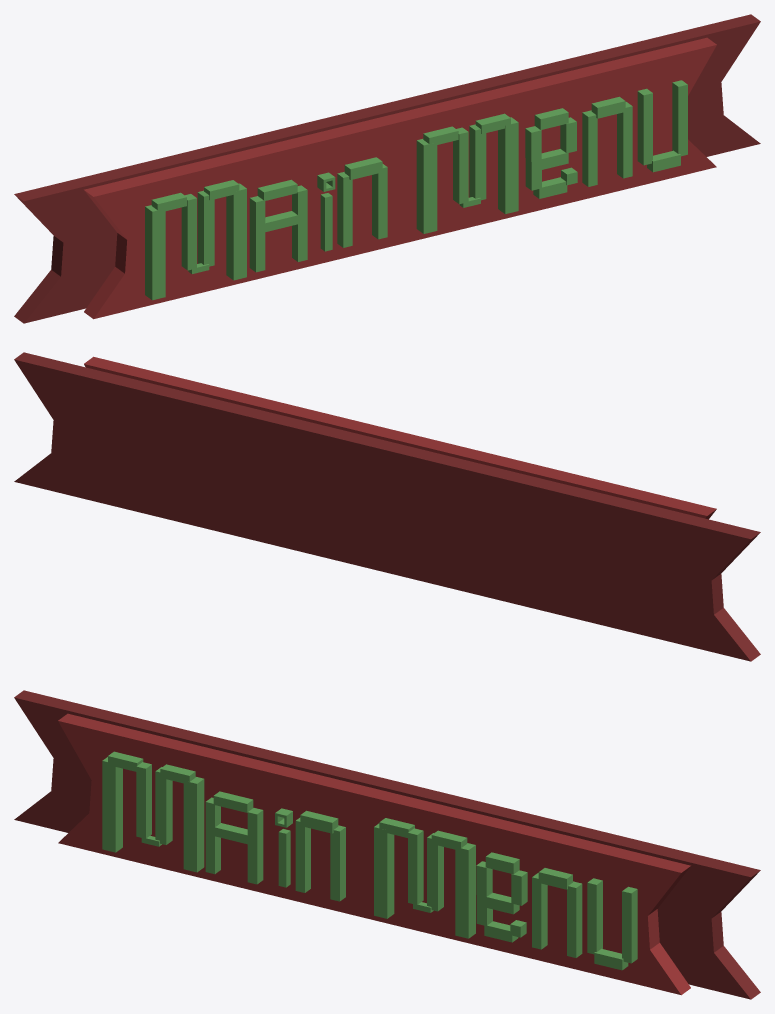
The model's file is Main Menu.fbx.
3 renders of one model, top to bottom at view 1: azimuth 30°, elevation 25°; view 2: azimuth 150°, elevation 25°; view 3: azimuth 330°, elevation 25°, orthographic.
Parts seen in each view (by area): view 1: polySurface71; view 2: polySurface71; view 3: polySurface71.
Part boxes in pixels (<box>): polySurface71: <box>14,14,760,323</box>; polySurface71: <box>14,352,760,661</box>; polySurface71: <box>14,690,760,999</box>.
Bounding box in the file's own units: 923 × 146 × 74.4.
